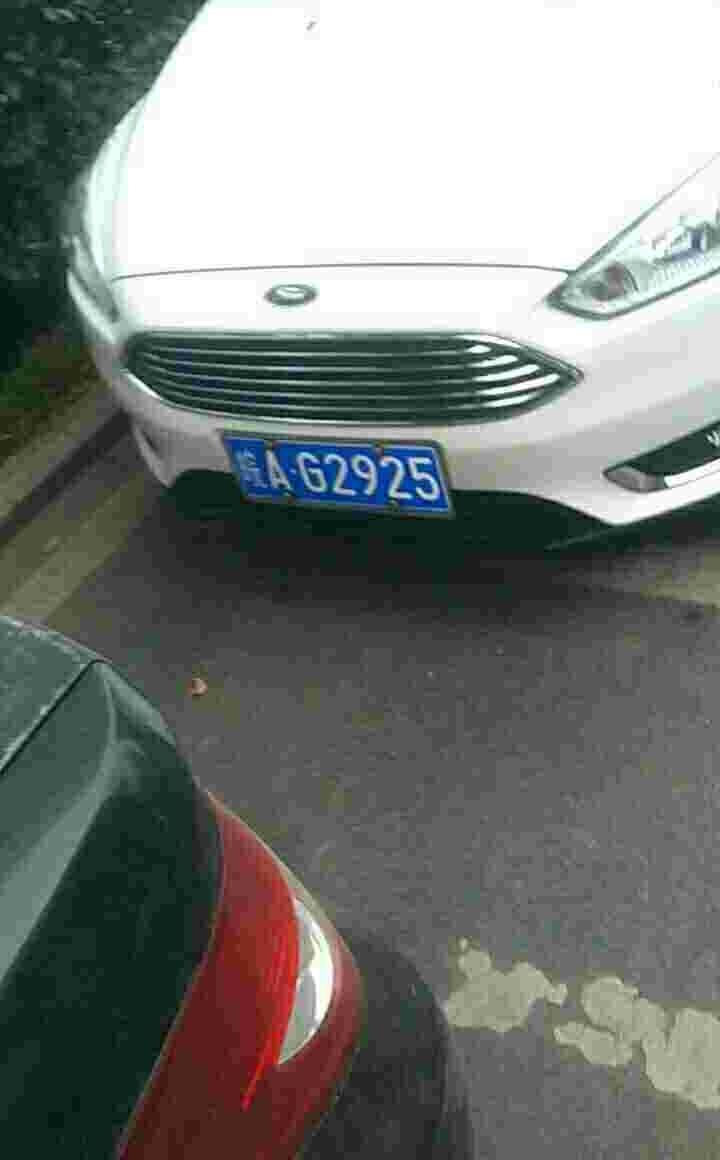license_plate: (220, 429, 456, 516)
